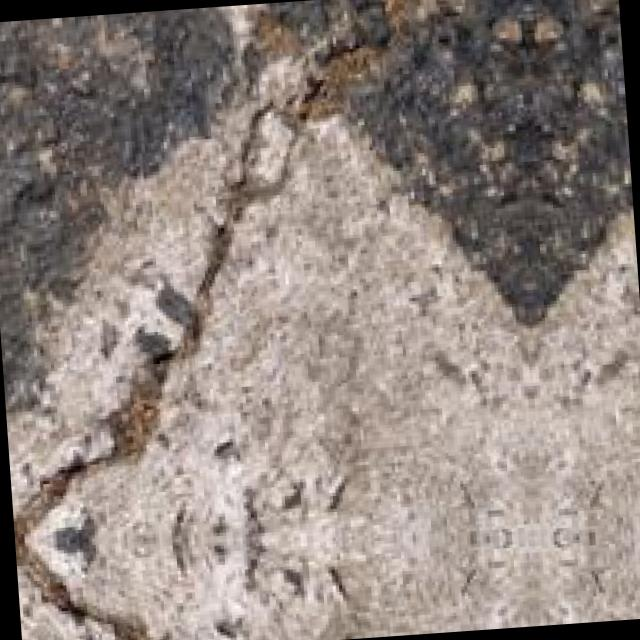crack: (0, 84, 383, 640)
